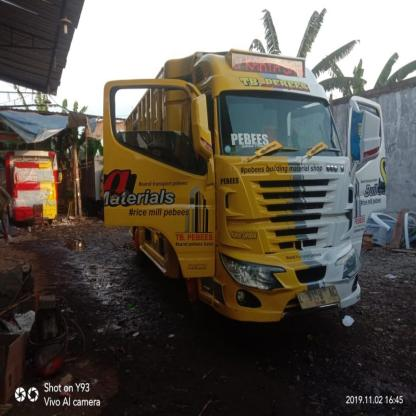truck: (105, 51, 387, 331)
